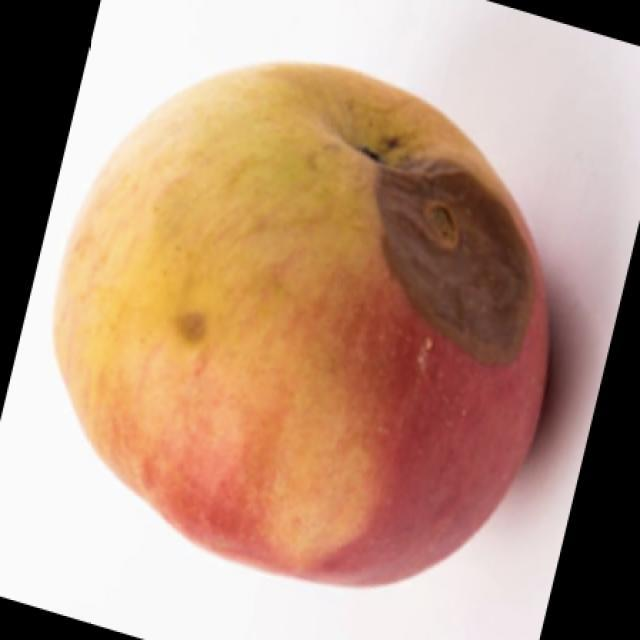Rotten: (68, 60, 560, 590)
